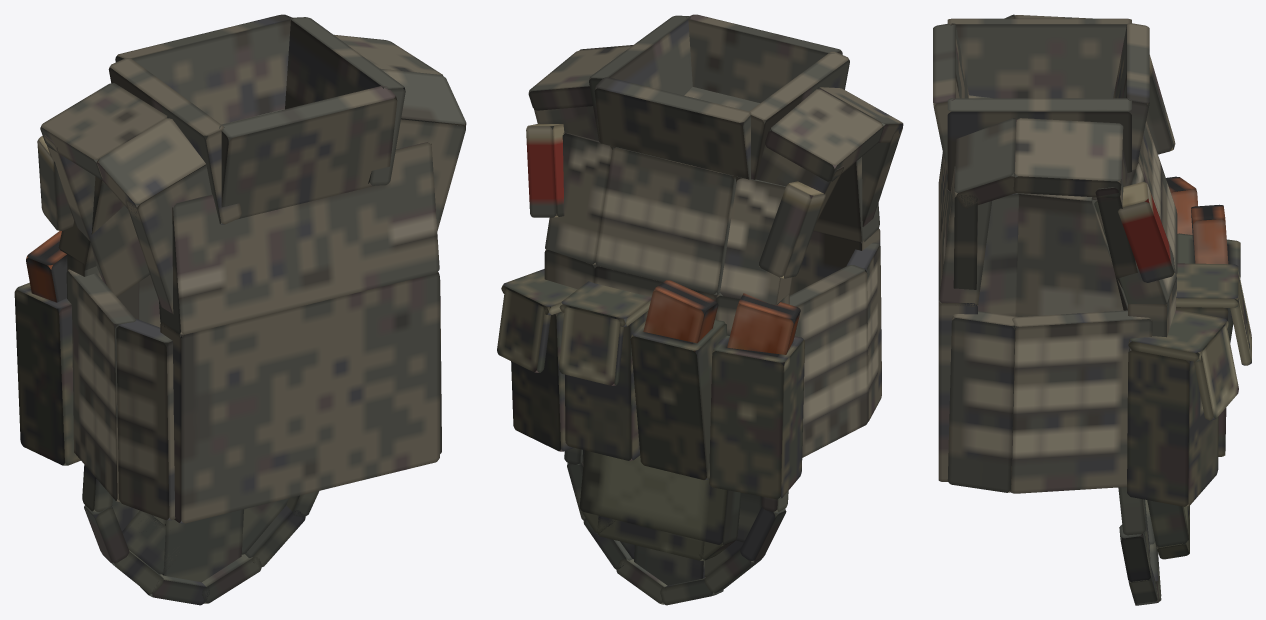
The model's file is ratnik_mobilized.obj.
The picture shows the model from 3 angles, left to right: view 1: azimuth 30°, elevation 25°; view 2: azimuth 150°, elevation 25°; view 3: azimuth 270°, elevation 25°; orthographic projection. The views are drawn at different scales.
Parts seen in each view (by area): view 1: mesh; view 2: mesh; view 3: mesh.
Part boxes in pixels (box(x1,y1,x2,y2)): mesh: box(14, 14, 466, 605); mesh: box(497, 14, 903, 605); mesh: box(933, 14, 1251, 605).
Size of the model in its own units: 0.7271 by 1.13 by 0.6052.
